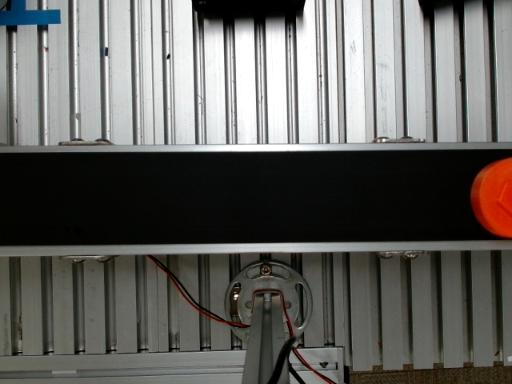Orange_Waper: (471, 158, 511, 238)
